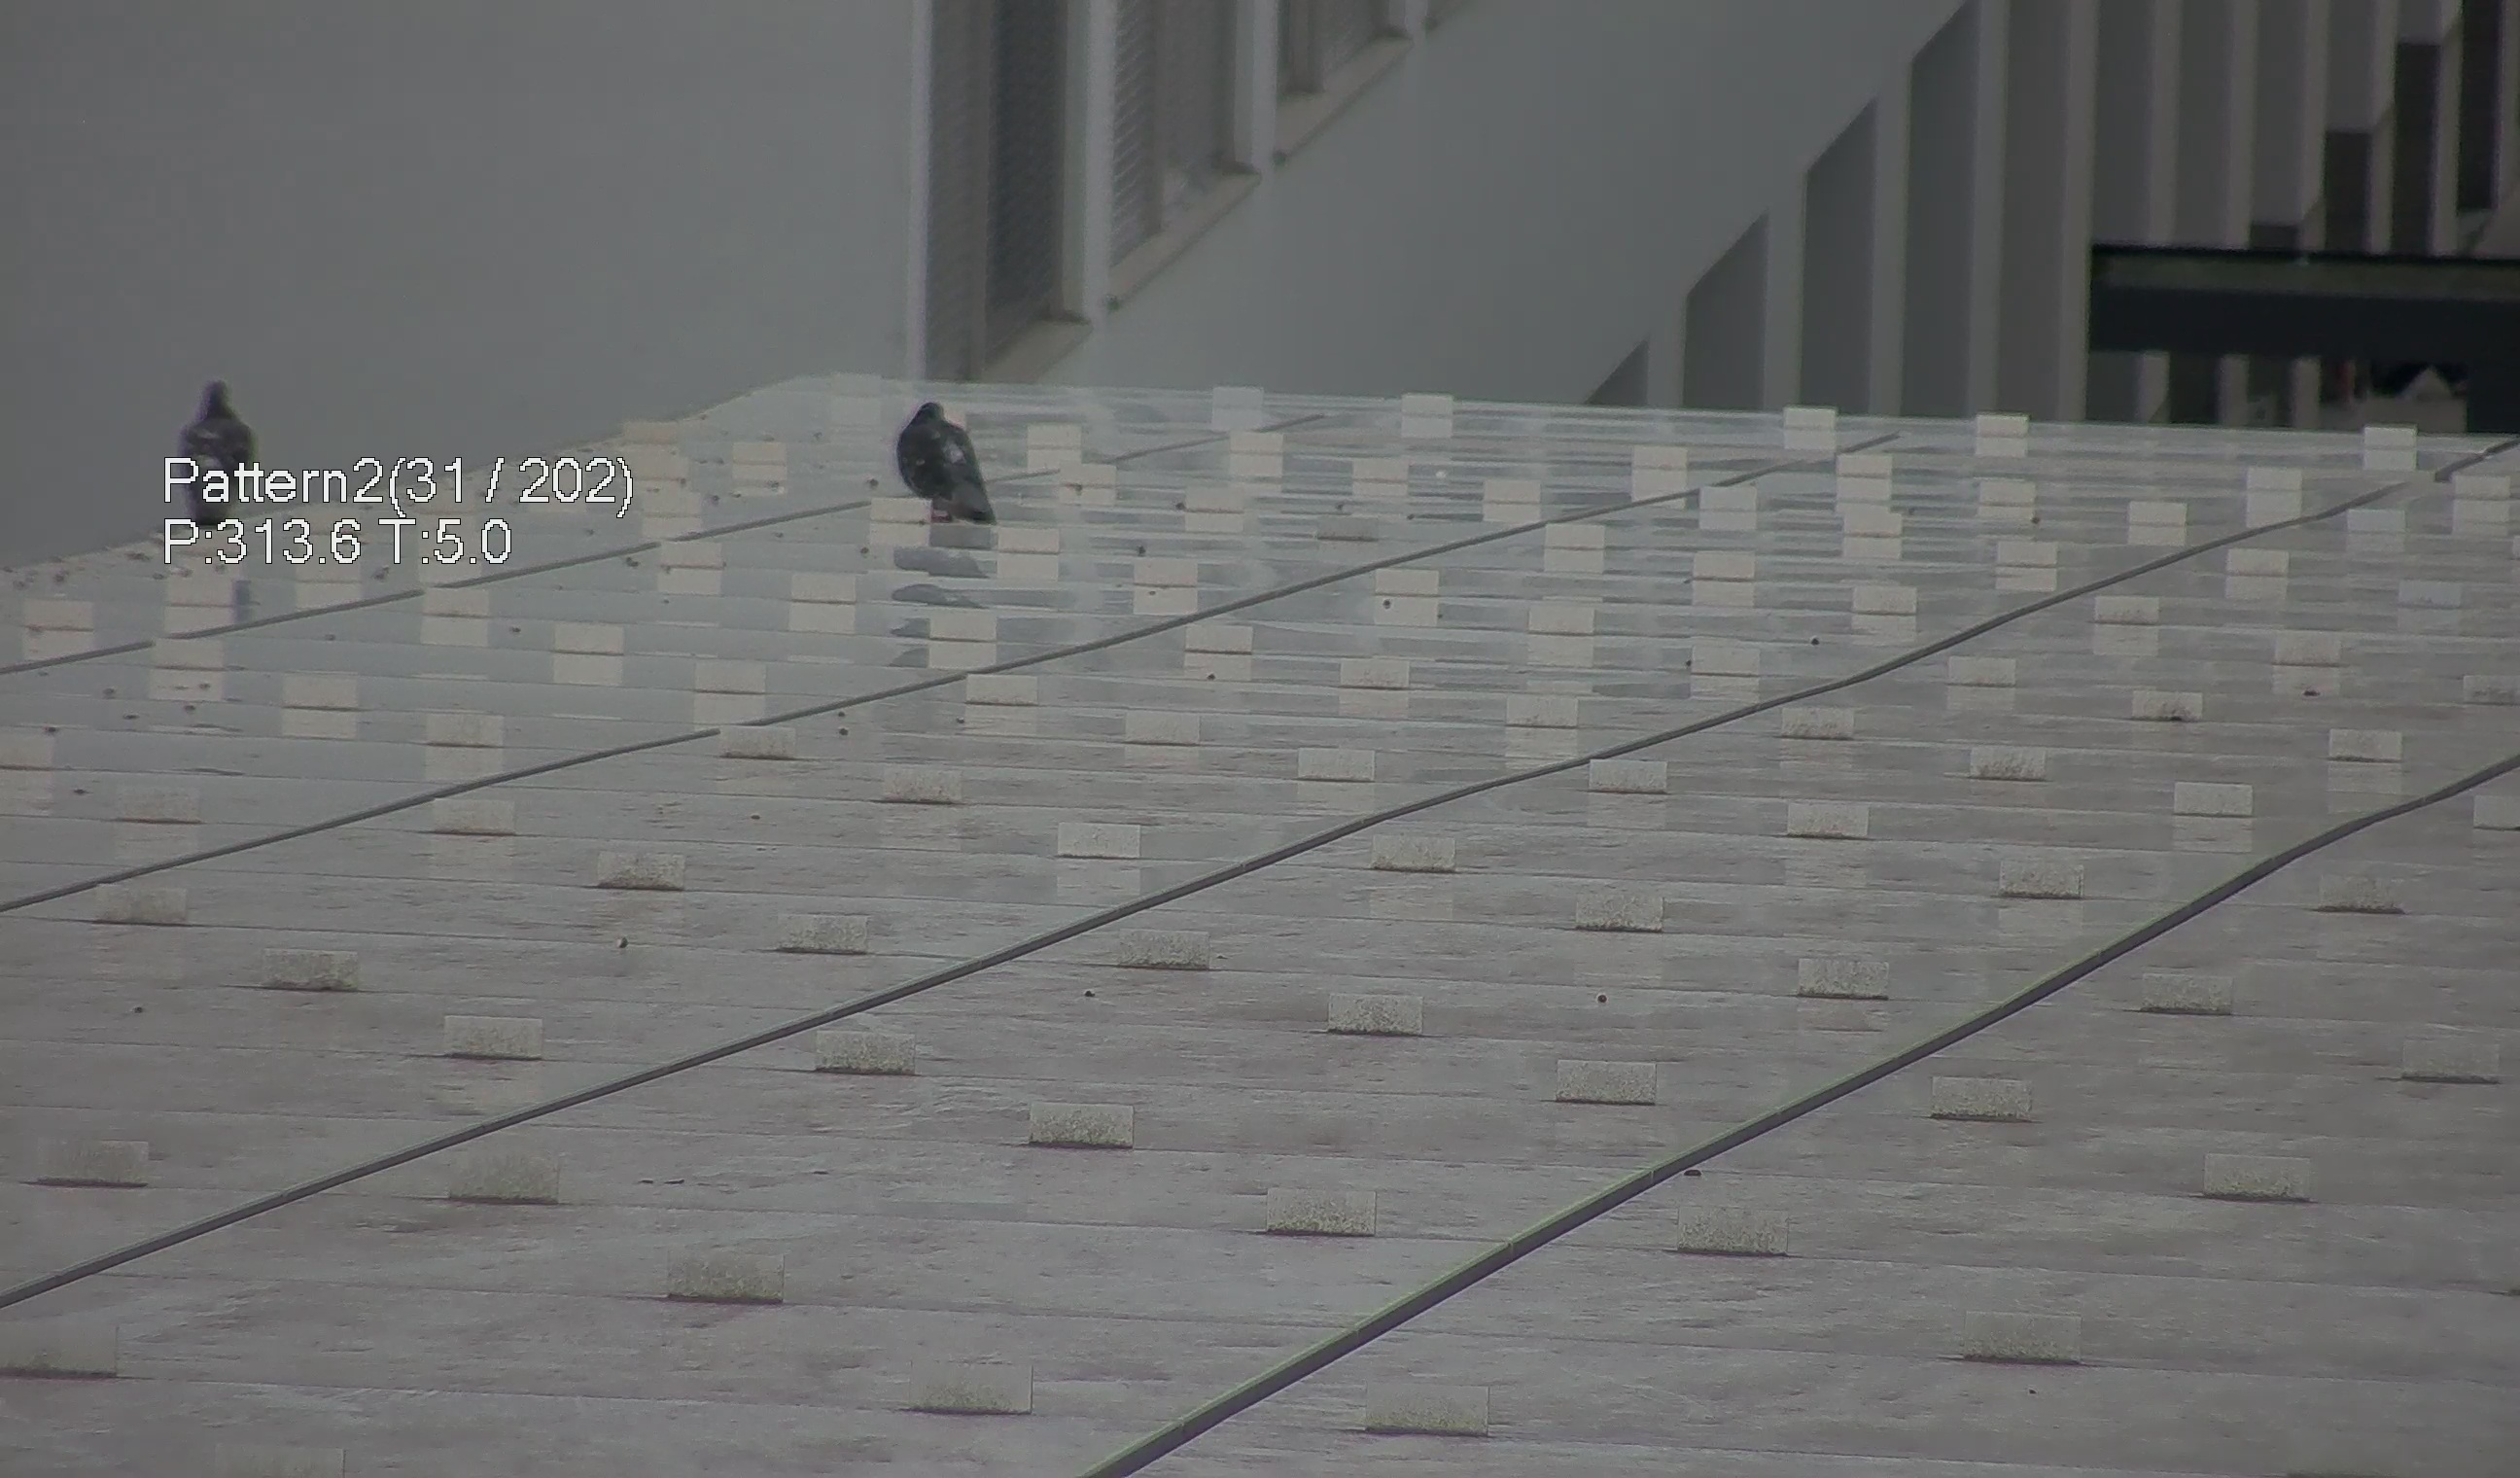Pigeon: (883, 384, 999, 538), (165, 371, 253, 540)
